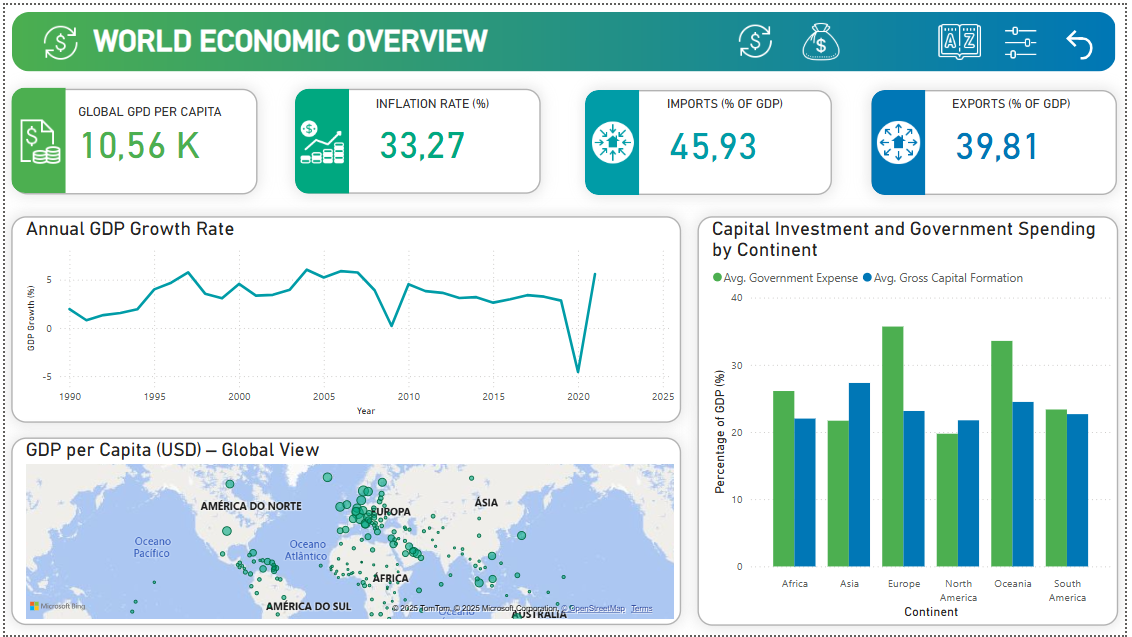

Layout of this report page (visuals, bound fields, positions):
{"tool":"powerbi","page":{"name":"World Economic Overview","canvas":[1280,720],"ordinal":0},"visuals":[{"type":"image","title":"Title Background","box":[7,7,1263.1,70],"z":0},{"type":"textbox","title":"WORLD ECONOMIC OVERVIEW","box":[95.7,21.4,1122.9,74.3],"z":1000},{"type":"image","title":"Filter","box":[1117.5,18.8,87.5,48.8],"z":2000},{"type":"actionButton","title":"No Filter Button","box":[1205,22.5,52.5,45],"z":3000},{"type":"actionButton","title":"Filter Button","box":[1117.7,7.7,87.3,68.6],"z":4000},{"type":"card","fields":{"Values":["Avg(Aggregated_Indicators.ExportsGDP)"]},"box":[990.5,96.9,280.5,120],"z":6000},{"type":"card","fields":{"Values":["Avg(Aggregated_Indicators.InflationCPI)"]},"box":[331.2,95.5,280.8,120.1],"z":7000},{"type":"card","fields":{"Values":["Avg(Aggregated_Indicators.ImportsGDP)"]},"box":[663.8,96.7,281,120],"z":8000},{"type":"card","fields":{"Values":["Avg(Aggregated_Indicators.GDPperCapita)"]},"box":[8.1,95,279.6,120.8],"z":9000},{"type":"shape","box":[7,94.6,62.6,121],"z":10000},{"type":"shape","box":[331.2,96,62,120.1],"z":11000},{"type":"shape","box":[663.3,96.7,62,120],"z":12000},{"type":"shape","box":[990.5,96.9,62,120],"z":13000},{"type":"image","title":"Glossary","box":[1051.4,11.4,80,60],"z":14000},{"type":"actionButton","title":"Glossary Button","box":[1051.4,5.7,80,70],"z":15000},{"type":"clusteredColumnChart","title":"Capital Investment and Government Spending by Continent","fields":{"Y":["Avg(Aggregated_Indicators.ExpenseGDP)","Avg(Aggregated_Indicators.GrossCapitalFormation)"],"Category":["Aggregated_Indicators.Continent"]},"box":[790.9,241.5,480.4,467.6],"z":16000},{"type":"textbox","title":"INFLATION RATE (%)","box":[419.1,104.8,192.9,111.2],"z":17000},{"type":"textbox","title":"GLOBAL GPD PER CAPITA","box":[77.9,112.4,209.5,103.5],"z":18000},{"type":"textbox","title":"IMPORTS (% OF GDP)","box":[751.3,104.8,194.2,112.4],"z":19000},{"type":"textbox","title":"EXPORTS (% OF GDP)","box":[1077.1,104.8,192.9,112.4],"z":20000},{"type":"lineChart","title":"Annual GDP Growth Rate","fields":{"Y":["Avg(Aggregated_Indicators.GDPgrowth)"],"Category":["Aggregated_Indicators.year"]},"box":[7.7,241.5,765.3,236.4],"z":21000},{"type":"map","title":"GDP per Capita (USD) – Global View","fields":{"Category":["Aggregated_Indicators.Country"],"Size":["Avg(Aggregated_Indicators.GDPperCapita)"]},"box":[7.7,494.5,765.3,214.7],"z":22000},{"type":"image","box":[6.4,94.6,62.6,121.4],"z":25000},{"type":"image","box":[330.9,95.8,62.6,121.4],"z":26000},{"type":"image","box":[664.4,97.1,61.3,120.1],"z":27000},{"type":"image","box":[990.2,97.1,62.6,120.1],"z":28000},{"type":"image","box":[29.4,14.1,66.4,57.5],"z":29000},{"type":"image","box":[824.3,12.9,67.1,57.1],"z":30000},{"type":"image","box":[901.4,7.1,62.9,68.6],"z":31000},{"type":"actionButton","title":"Education Button","box":[891.4,5.7,81.4,70],"z":31125}]}

Visuals, with their boxes in screenshot pixels (x1, y1, x2, y2), scaled from the page's 1280x720 canvas onto the 1132x637 screenshot:
"Title Background" image: select_region(6, 6, 1123, 68)
"WORLD ECONOMIC OVERVIEW" textbox: select_region(85, 19, 1078, 85)
"Filter" image: select_region(988, 17, 1066, 60)
"No Filter Button" actionButton: select_region(1066, 20, 1112, 60)
"Filter Button" actionButton: select_region(988, 7, 1066, 68)
card - Avg(Aggregated_Indicators.ExportsGDP): select_region(876, 86, 1124, 192)
card - Avg(Aggregated_Indicators.InflationCPI): select_region(293, 84, 541, 191)
card - Avg(Aggregated_Indicators.ImportsGDP): select_region(587, 86, 836, 192)
card - Avg(Aggregated_Indicators.GDPperCapita): select_region(7, 84, 254, 191)
shape: select_region(6, 84, 62, 191)
shape: select_region(293, 85, 348, 191)
shape: select_region(587, 86, 641, 192)
shape: select_region(876, 86, 931, 192)
"Glossary" image: select_region(930, 10, 1001, 63)
"Glossary Button" actionButton: select_region(930, 5, 1001, 67)
"Capital Investment and Government Spending by Continent" clusteredColumnChart: select_region(699, 214, 1124, 627)
"INFLATION RATE (%)" textbox: select_region(371, 93, 541, 191)
"GLOBAL GPD PER CAPITA" textbox: select_region(69, 99, 254, 191)
"IMPORTS (% OF GDP)" textbox: select_region(664, 93, 836, 192)
"EXPORTS (% OF GDP)" textbox: select_region(953, 93, 1123, 192)
"Annual GDP Growth Rate" lineChart: select_region(7, 214, 684, 423)
"GDP per Capita (USD) – Global View" map: select_region(7, 437, 684, 627)
image: select_region(6, 84, 61, 191)
image: select_region(293, 85, 348, 192)
image: select_region(588, 86, 642, 192)
image: select_region(876, 86, 931, 192)
image: select_region(26, 12, 85, 63)
image: select_region(729, 11, 788, 62)
image: select_region(797, 6, 853, 67)
"Education Button" actionButton: select_region(788, 5, 860, 67)
